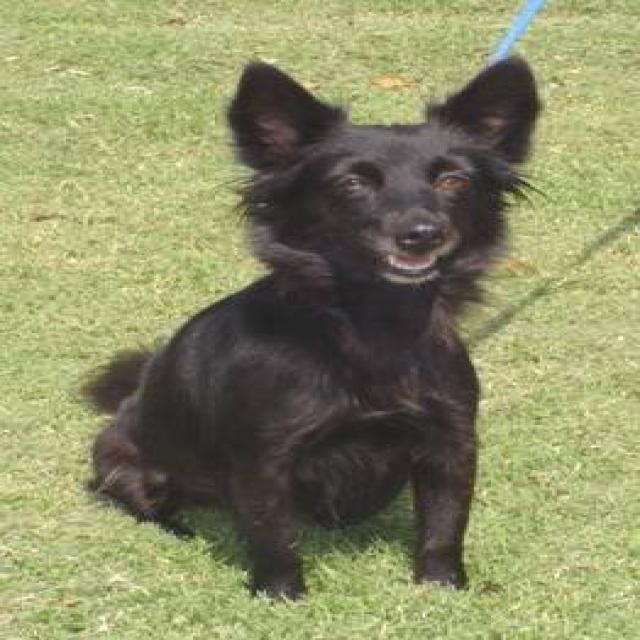dog: (76, 52, 547, 602)
